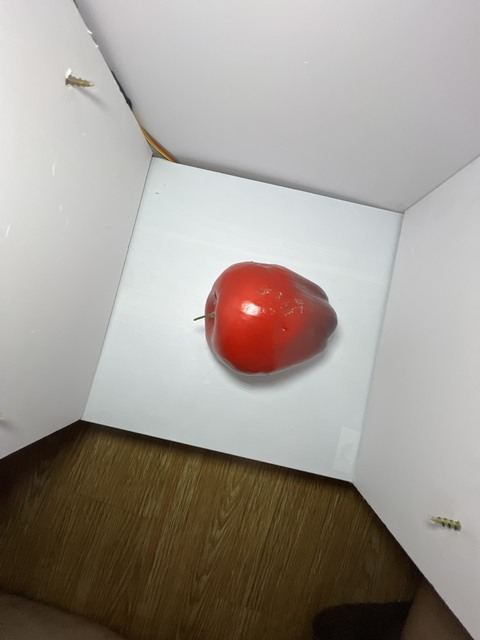Tao: (200, 258, 343, 380)
